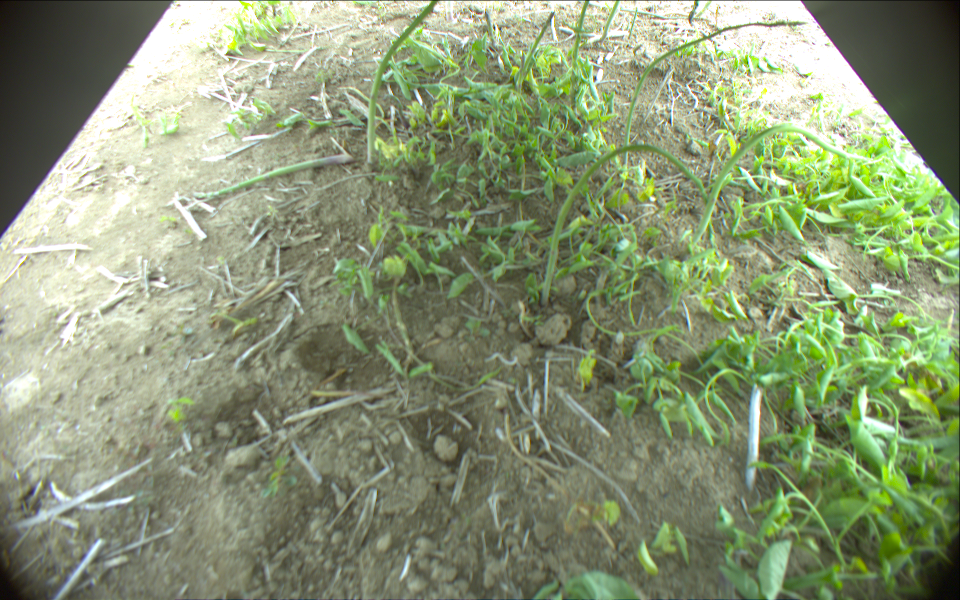aspa: (620, 18, 810, 184), (541, 143, 715, 307), (694, 123, 876, 248), (366, 1, 440, 162), (187, 152, 355, 208), (515, 11, 555, 82), (572, 1, 588, 80), (602, 1, 620, 44), (483, 10, 499, 49), (515, 46, 527, 95), (627, 8, 641, 38), (697, 1, 712, 19)
